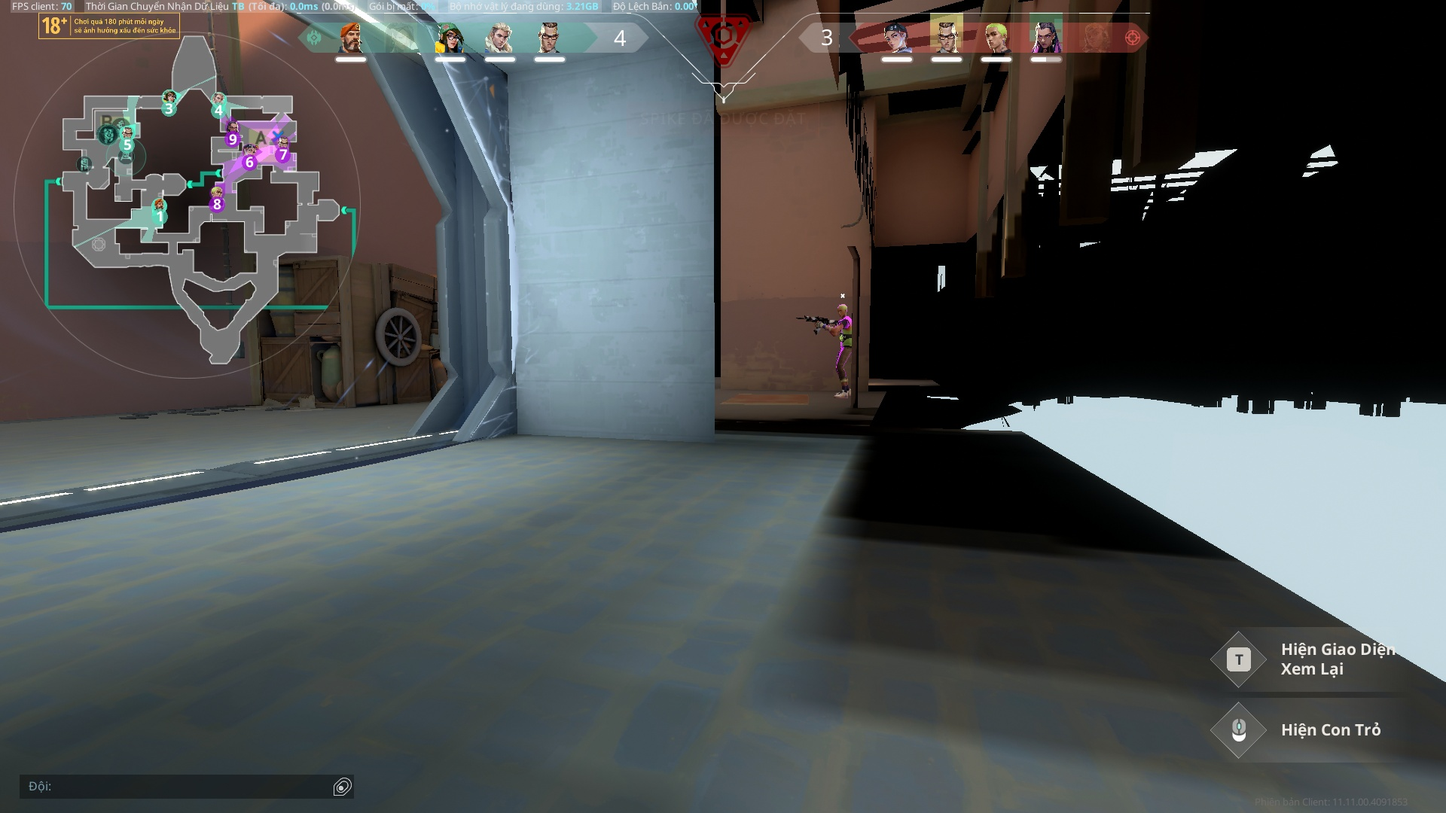body: (837, 316, 853, 345)
head: (836, 303, 848, 316)
